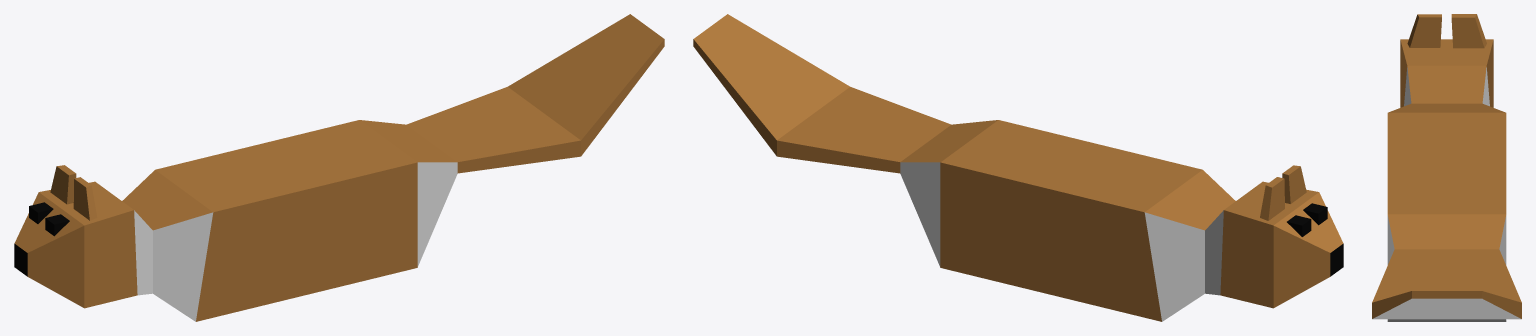
File: Squirrel.fbx
3 views of the same model, side by side, from view 1: azimuth 30°, elevation 25°; view 2: azimuth 150°, elevation 25°; view 3: azimuth 270°, elevation 25° (orthographic). The views are drawn at different scales.
Parts seen in each view (by area): view 1: Cube; view 2: Cube; view 3: Cube.
Part boxes in pixels (<box>): Cube: <box>14,14,664,321</box>; Cube: <box>693,14,1343,321</box>; Cube: <box>1372,14,1521,321</box>.
Bounding box in the file's own units: 936 × 224 × 190.
